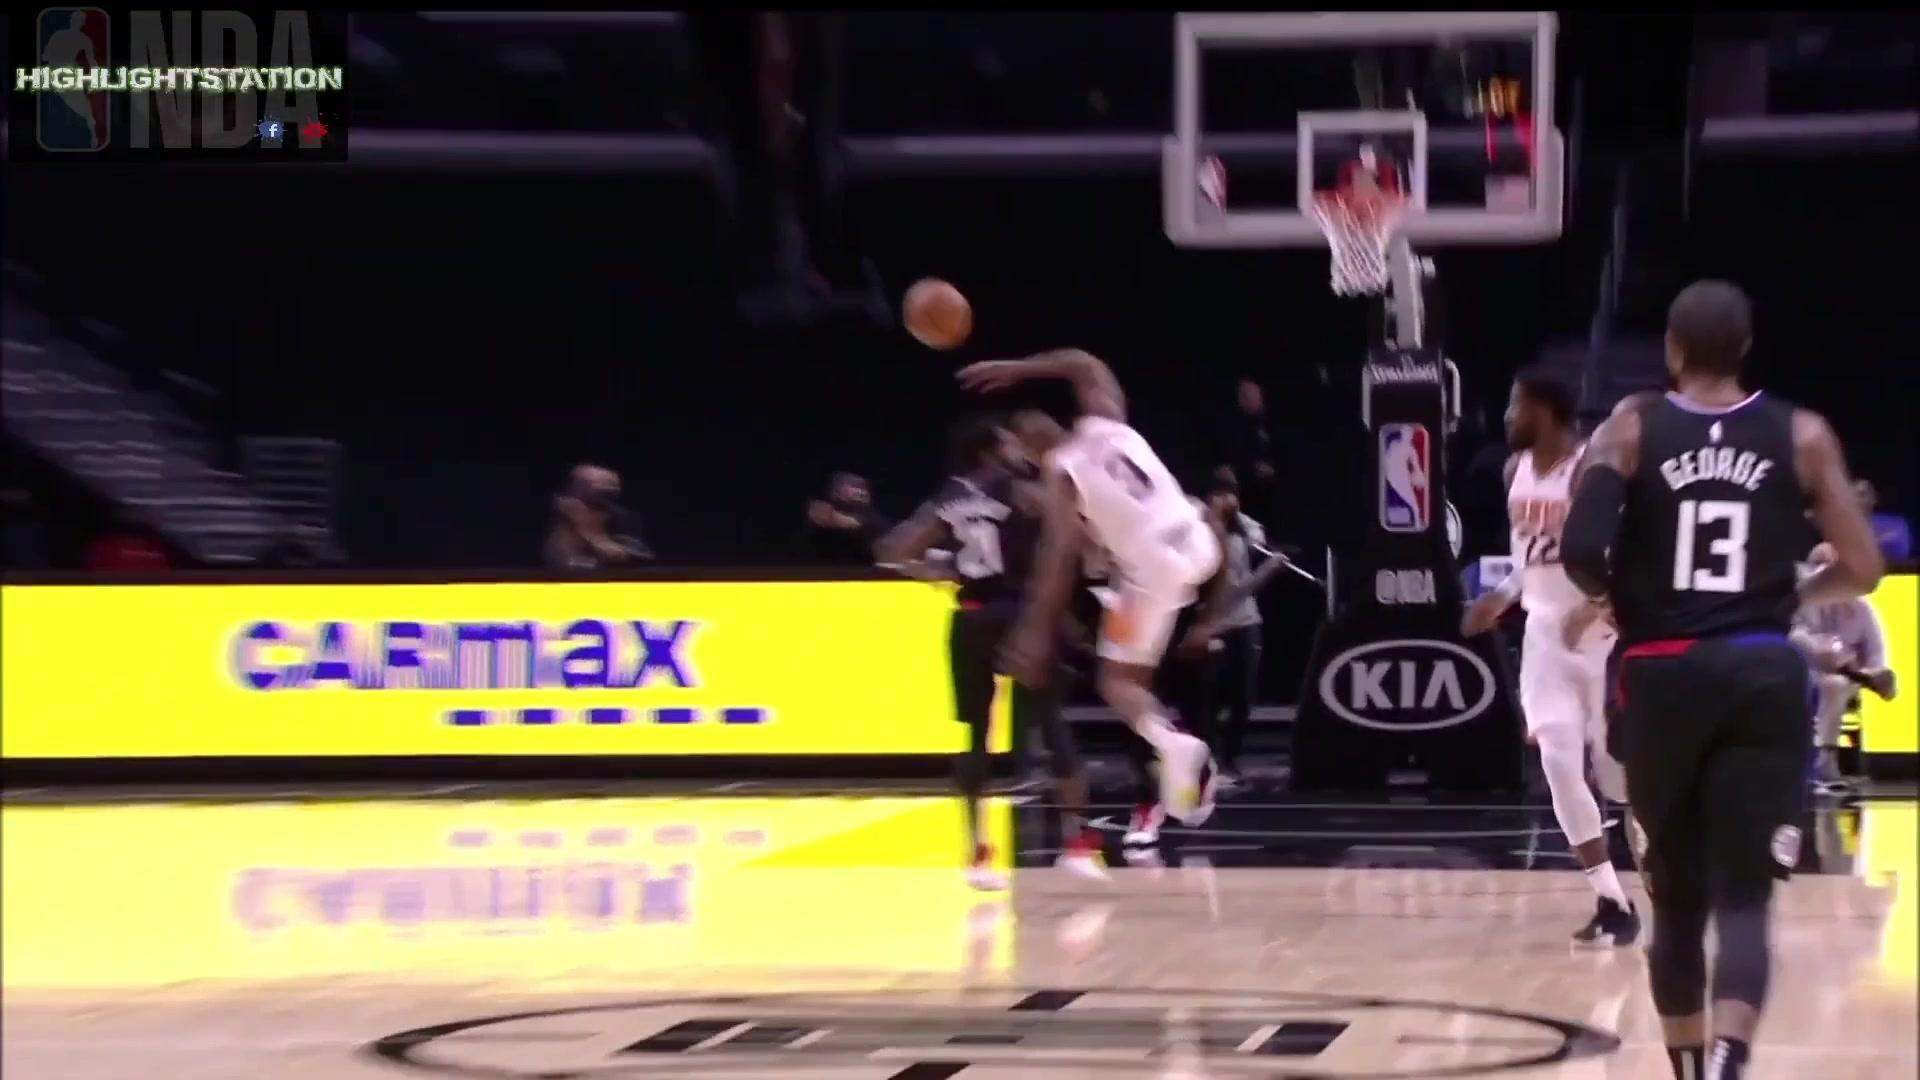foul: (898, 371, 1232, 876)
